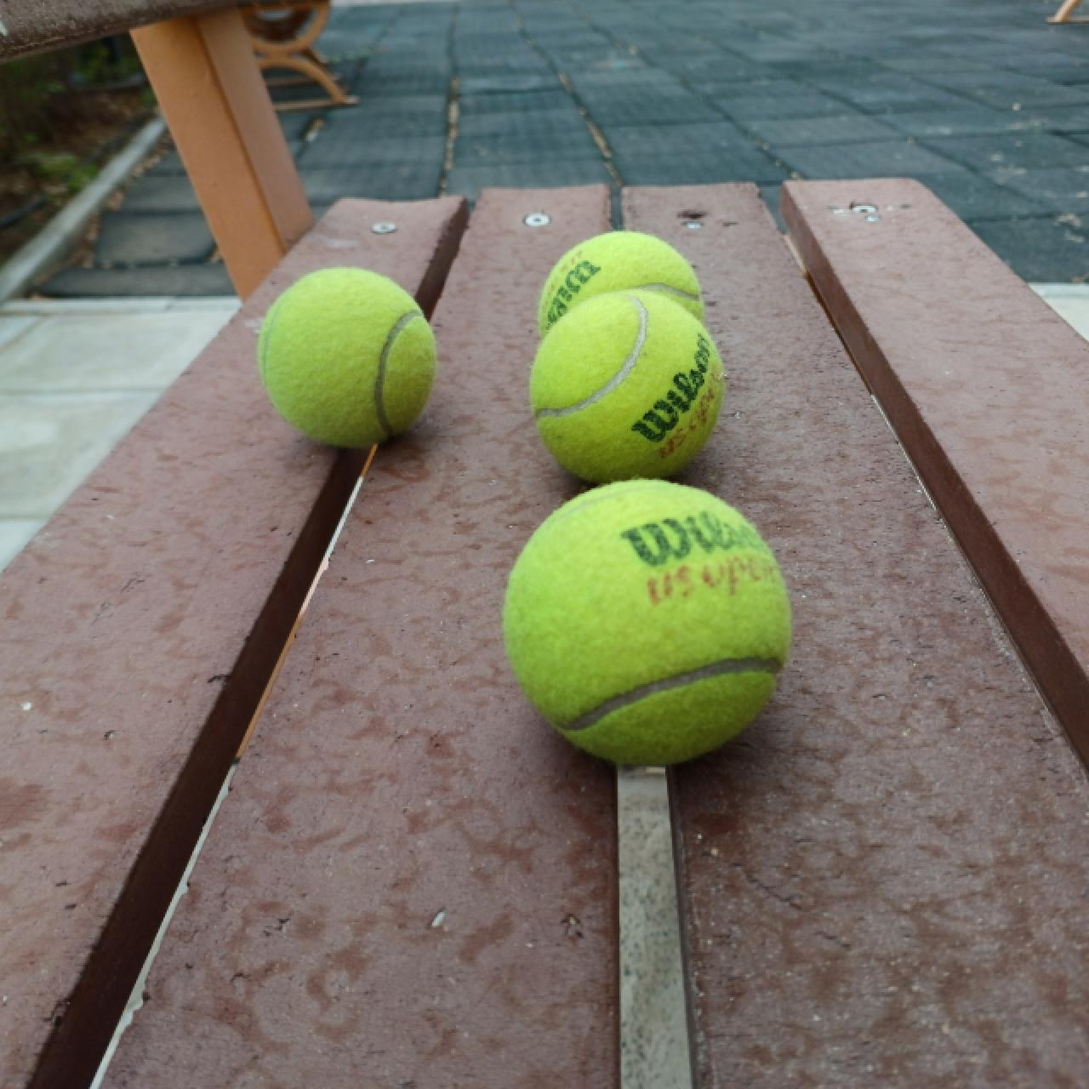tennis-ball: (504, 481, 791, 769), (531, 288, 724, 487), (255, 264, 436, 449), (537, 229, 704, 384)
